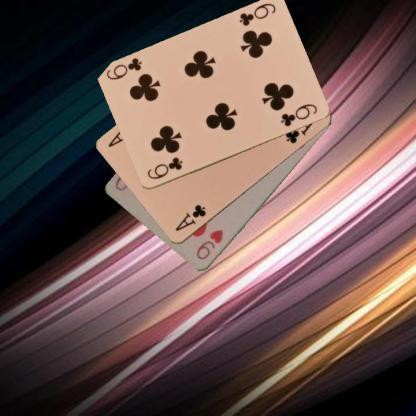6c: (236, 0, 277, 28), (144, 155, 184, 181)
9h: (194, 227, 224, 261)
Ac: (172, 202, 208, 233)
